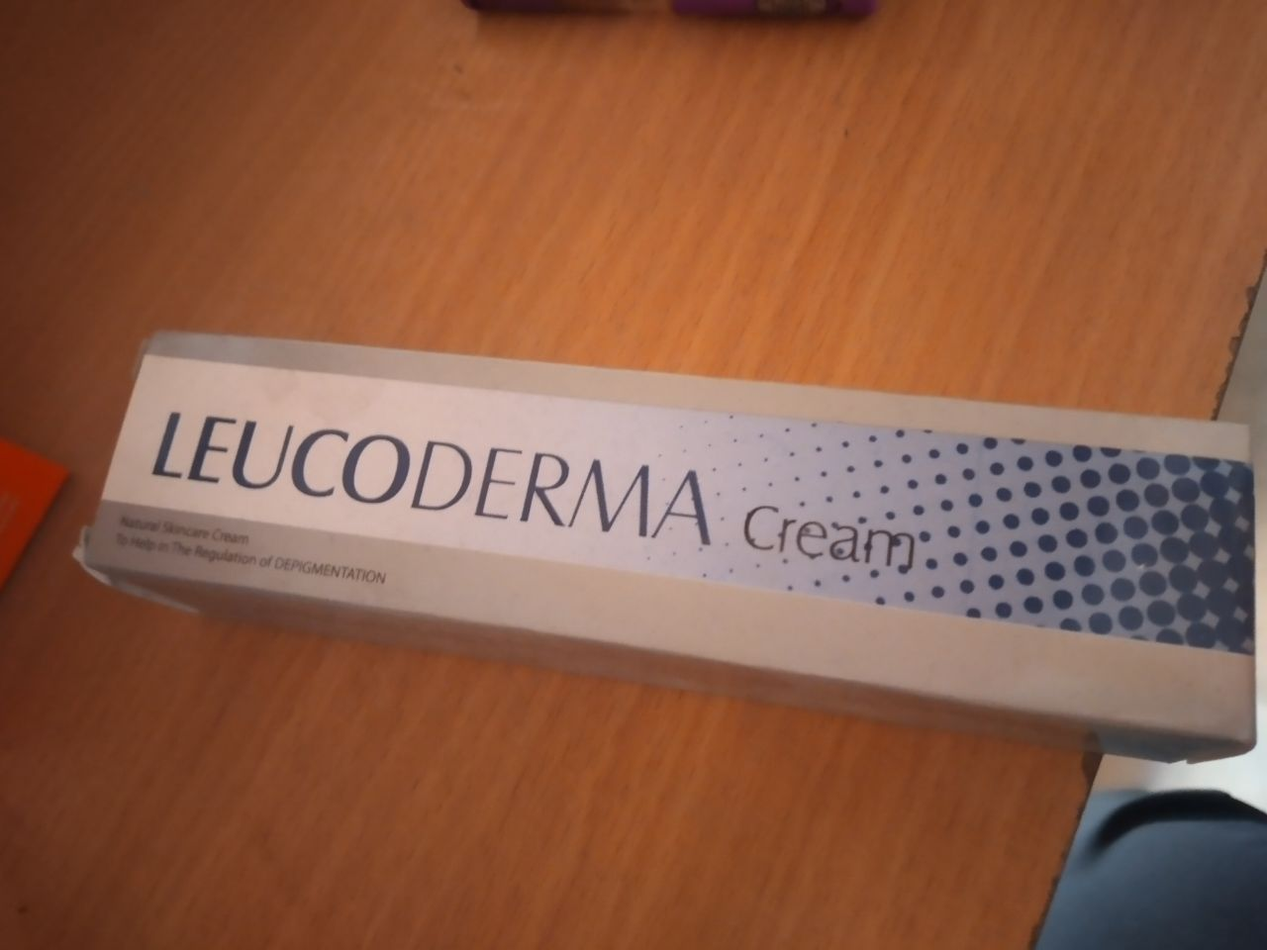Medicine: (77, 312, 1257, 764)
